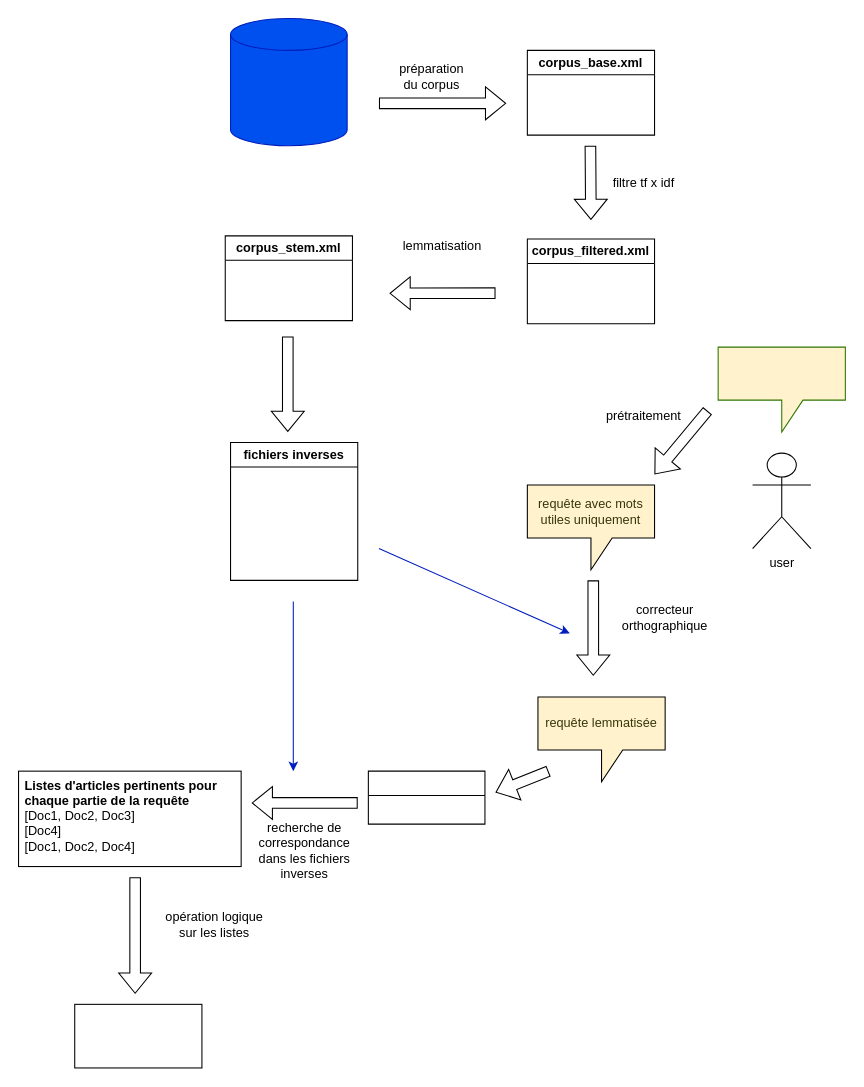
Some shapes in this 864 by 1087 pixel diagram are drawn without their labels. The shapes that lost their labels are listed below. From the top down, each one's centre as x and y in pixels, then its label:
At point 288,81: "Corpus original (fichiers html)".
At point 781,389: "requête utilisateur".
At point 426,797: "objet Requête".
At point 138,1035: "Réponse à la requête [Doc1, Doc 4]".
